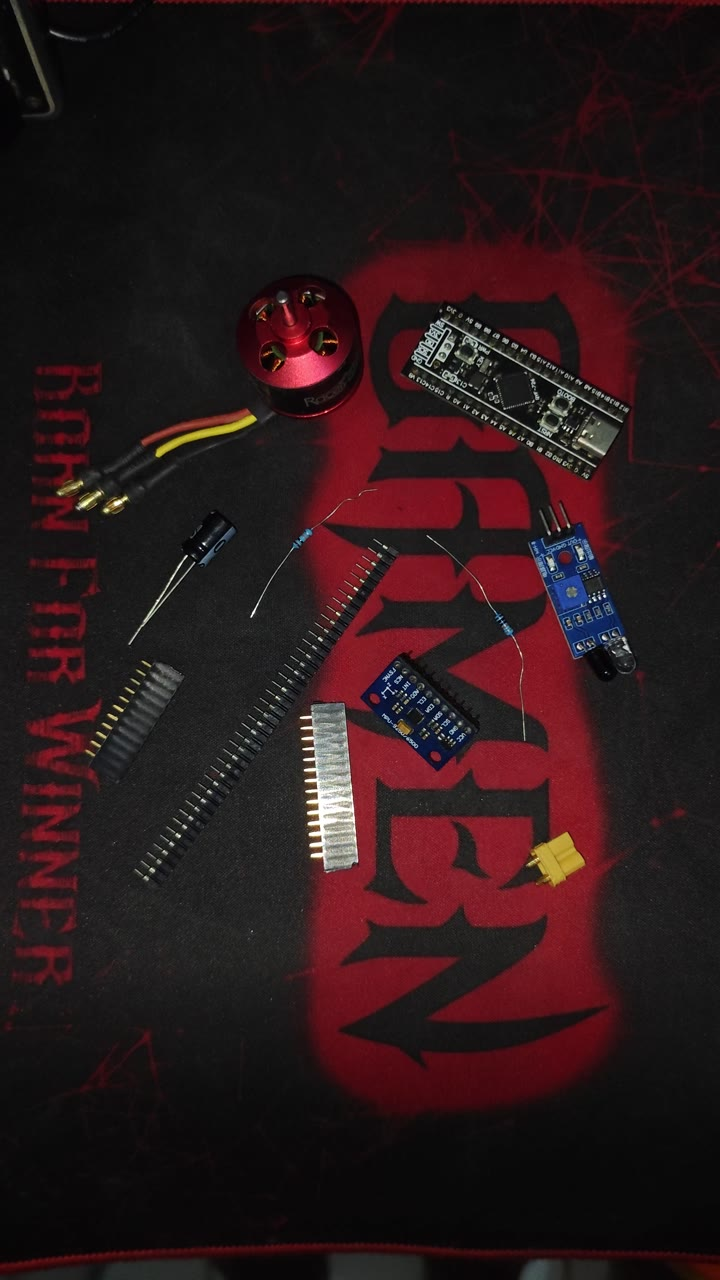bldc_motor: (43, 225, 354, 484)
elco_capacitor: (103, 487, 178, 592)
ir_sensor: (475, 516, 587, 678)
mpu6500: (356, 663, 469, 761)
pin_header: (104, 721, 249, 860), (236, 670, 340, 858), (55, 644, 108, 790)
resistor: (208, 497, 303, 580), (404, 560, 475, 649)
stm32f4: (399, 302, 637, 459)
xt30_female: (481, 785, 563, 867)
